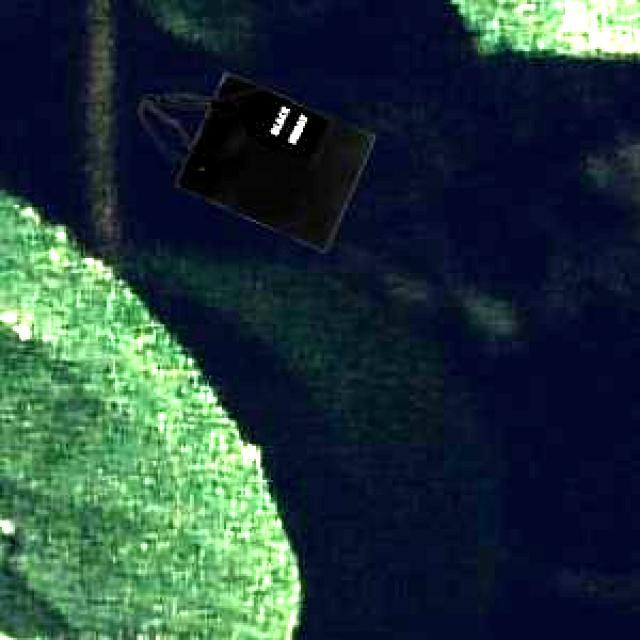Paper_Bag: (140, 72, 372, 248)
